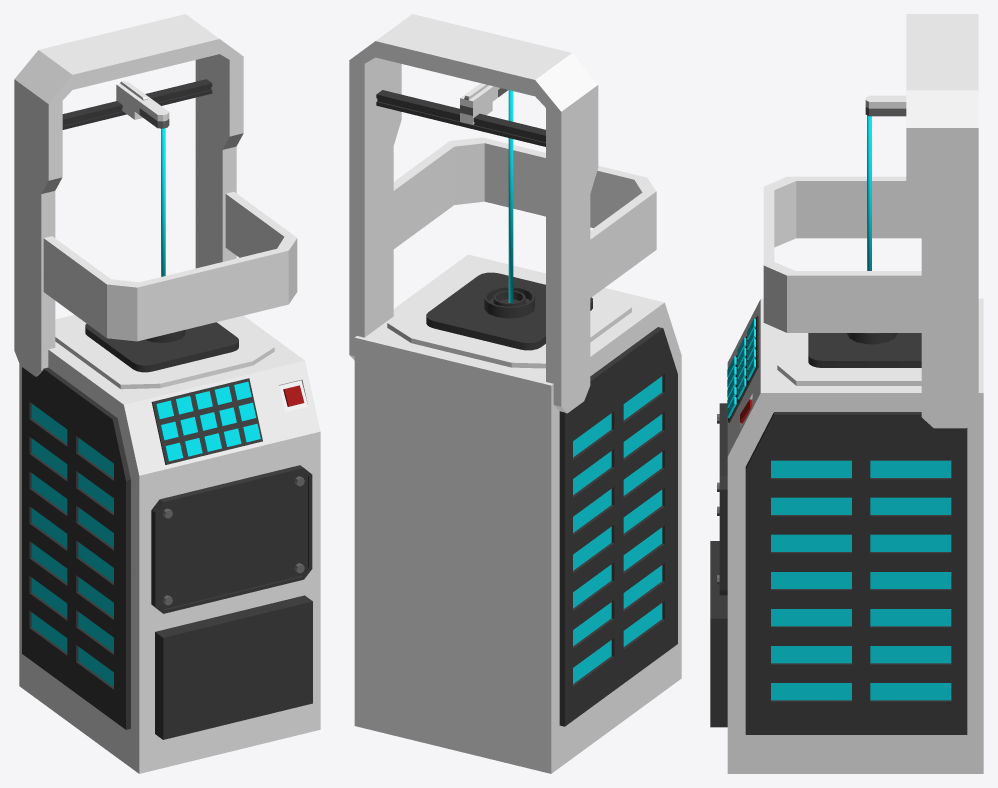
Rendered from UpgradeStation (3).fbx.
3 views of the same model, side by side, from view 1: azimuth 30°, elevation 25°; view 2: azimuth 150°, elevation 25°; view 3: azimuth 270°, elevation 25° (orthographic). The views are drawn at different scales.
Visible parts, largest first — view 1: Base, SideLights, Laser; view 2: Base, SideLights, Laser; view 3: Base, SideLights, Laser.
Part boxes in pixels (left/top/right/bottom): Base: left=14, top=14, right=320, bottom=773; SideLights: left=31, top=403, right=113, bottom=686; Laser: left=161, top=128, right=165, bottom=276; Base: left=349, top=14, right=681, bottom=773; SideLights: left=573, top=376, right=662, bottom=683; Laser: left=508, top=90, right=513, bottom=302; Base: left=710, top=14, right=983, bottom=773; SideLights: left=771, top=460, right=951, bottom=700; Laser: left=867, top=115, right=871, bottom=270.
Bounding box in the file's own units: 64.62 × 200 × 73.53.
Materials: 1 (1 with a texture image).
